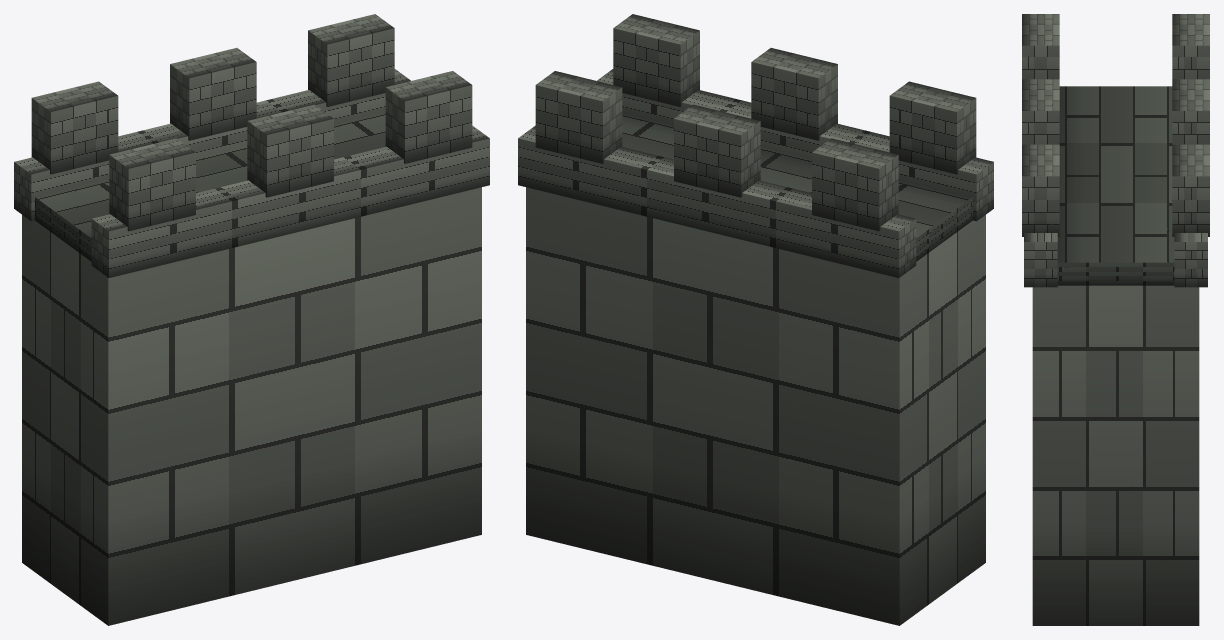
The model's file is wall.glb.
The picture shows the model from 3 angles, left to right: view 1: azimuth 30°, elevation 25°; view 2: azimuth 150°, elevation 25°; view 3: azimuth 270°, elevation 25°; orthographic projection. The views are drawn at different scales.
Parts seen in each view (by area): view 1: wall; view 2: wall; view 3: wall.
Part boxes in pixels (x1,y1,x2,y2): wall: (14,14,489,625); wall: (518,14,993,625); wall: (1022,14,1209,625).
Size of the model in its own units: 1.02 by 1.17 by 0.45.
1 material, 1 textured.
